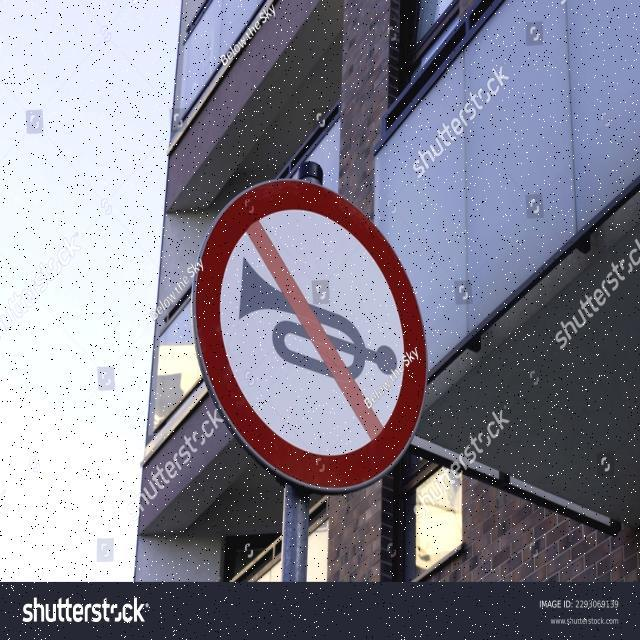Traffic sign: (187, 171, 433, 497)
